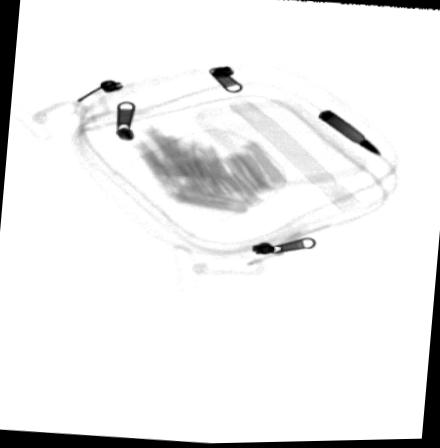Bullet: (313, 109, 381, 159)
